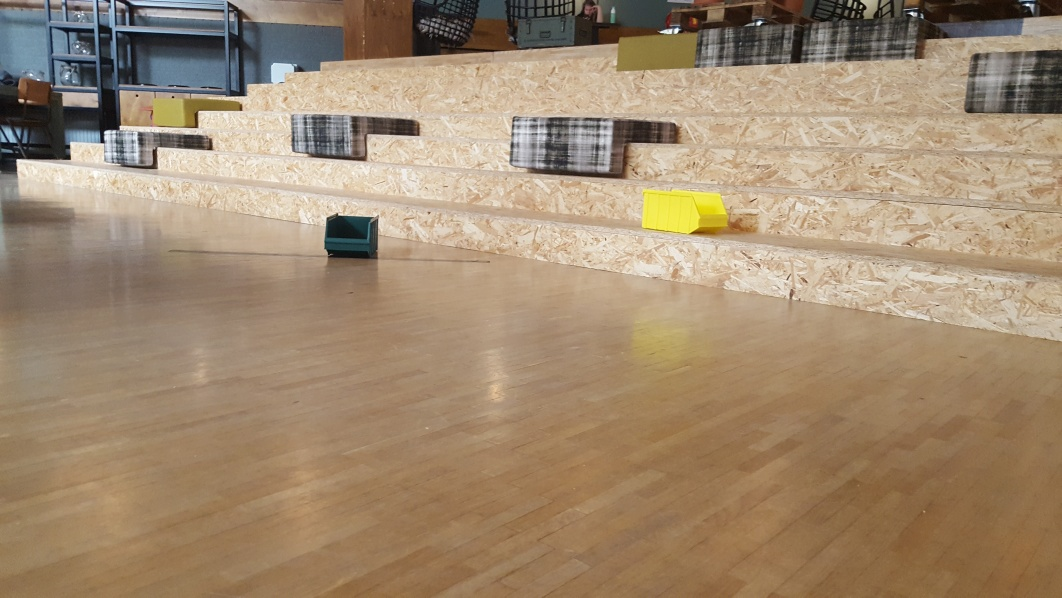tray: (640, 189, 731, 237), (323, 210, 380, 257)
